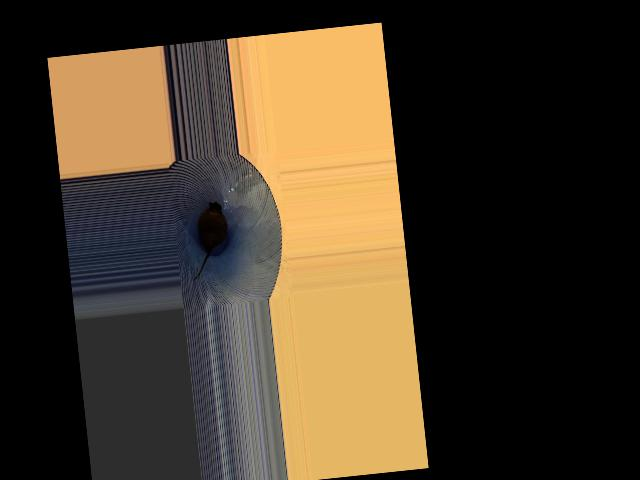beet: (185, 200, 231, 279)
